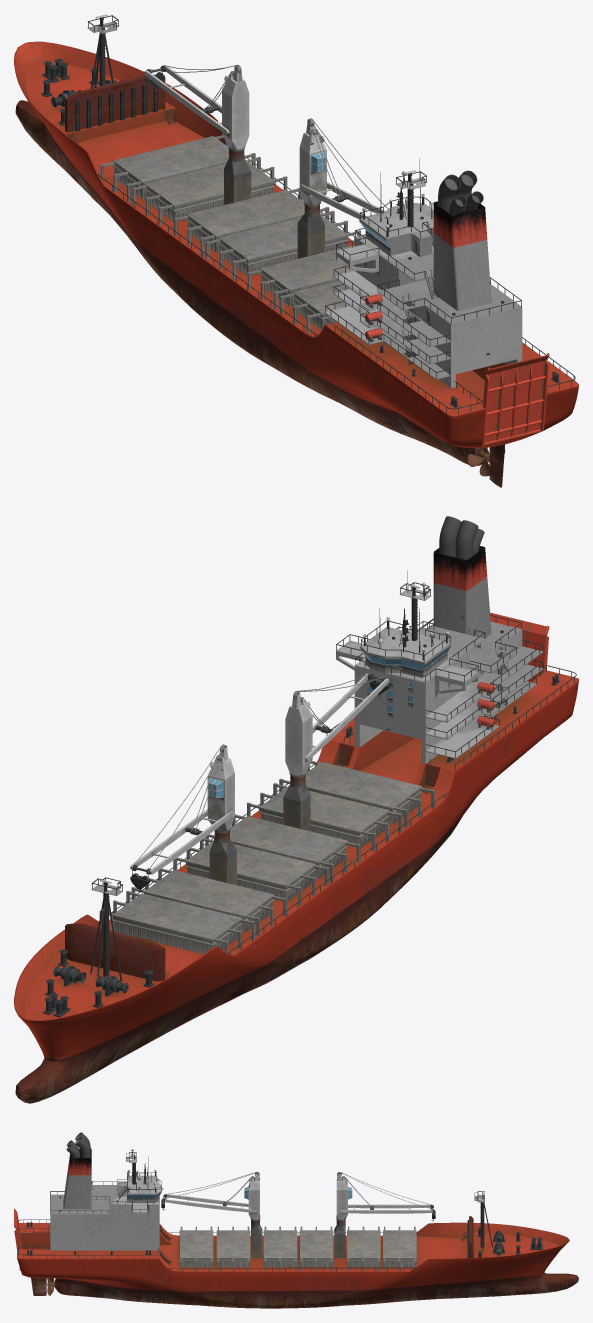
The model's file is marine-cargo.glb.
The picture shows the model from 3 angles, top to bottom: view 1: azimuth 30°, elevation 25°; view 2: azimuth 150°, elevation 25°; view 3: azimuth 270°, elevation 25°; orthographic projection. The views are drawn at different scales.
Visible parts, largest first — view 1: cargo1; view 2: cargo1; view 3: cargo1.
Part boxes in pixels (<box>): cargo1: <box>14,14,578,487</box>; cargo1: <box>14,516,578,1103</box>; cargo1: <box>14,1132,578,1308</box>.
Size of the model in its own units: 33.34 by 68.81 by 220.
Materials: 3 (3 with a texture image).
